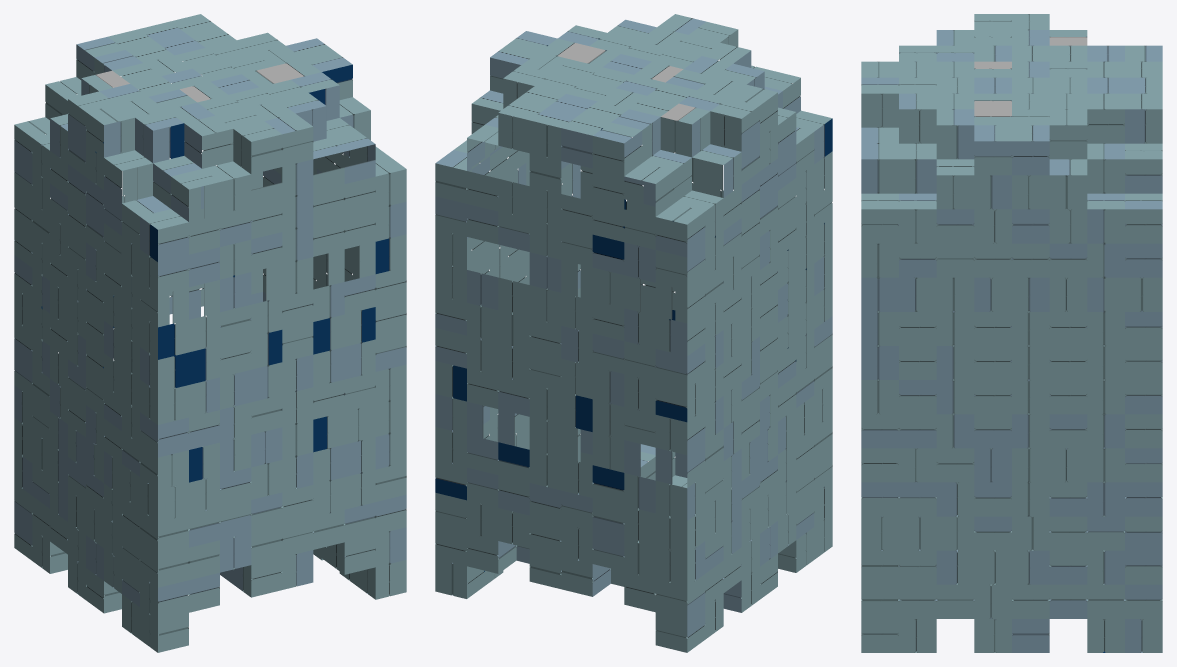
Rendered from ghost.fbx.
3 renders of one model, left to right at view 1: azimuth 30°, elevation 25°; view 2: azimuth 150°, elevation 25°; view 3: azimuth 270°, elevation 25°, orthographic. The views are drawn at different scales.
Visible parts, largest first — view 1: ghost; view 2: ghost; view 3: ghost.
Part boxes in pixels (x1,y1,x2,y2): ghost: (14,14,406,652); ghost: (435,14,832,652); ghost: (861,14,1162,652).
Bounding box in the file's own units: 80 × 150 × 80.
